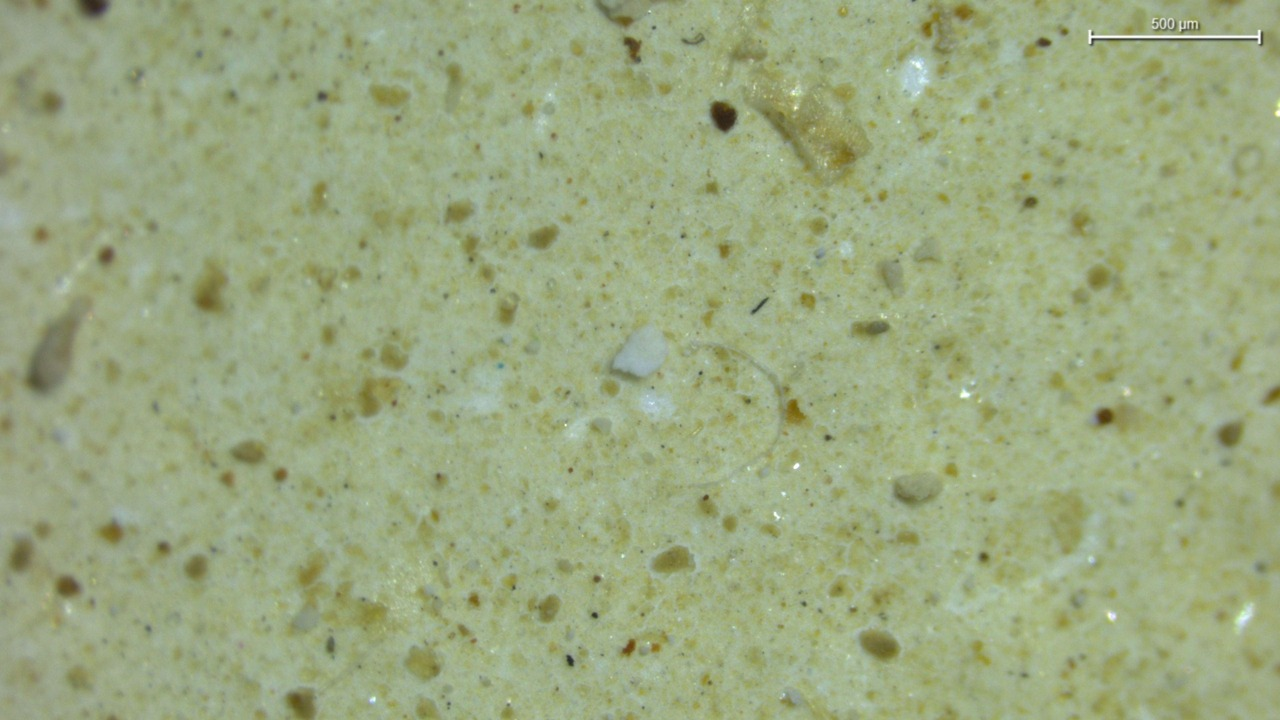microplastic_fragment: (745, 80, 869, 172), (612, 325, 667, 377), (893, 473, 943, 503)
